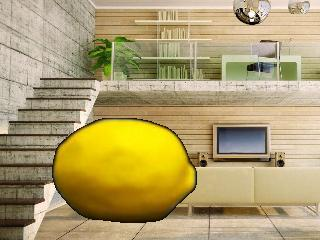lemon: (54, 118, 197, 222)
